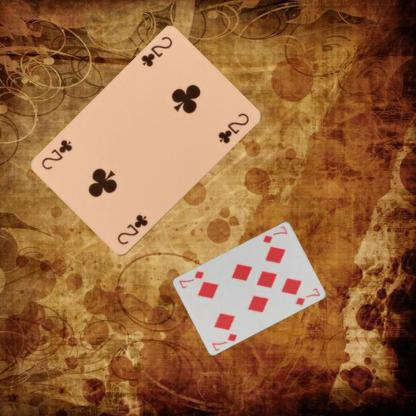2c: (114, 212, 149, 247), (139, 34, 174, 69)
7d: (210, 330, 238, 352), (260, 223, 289, 244)
